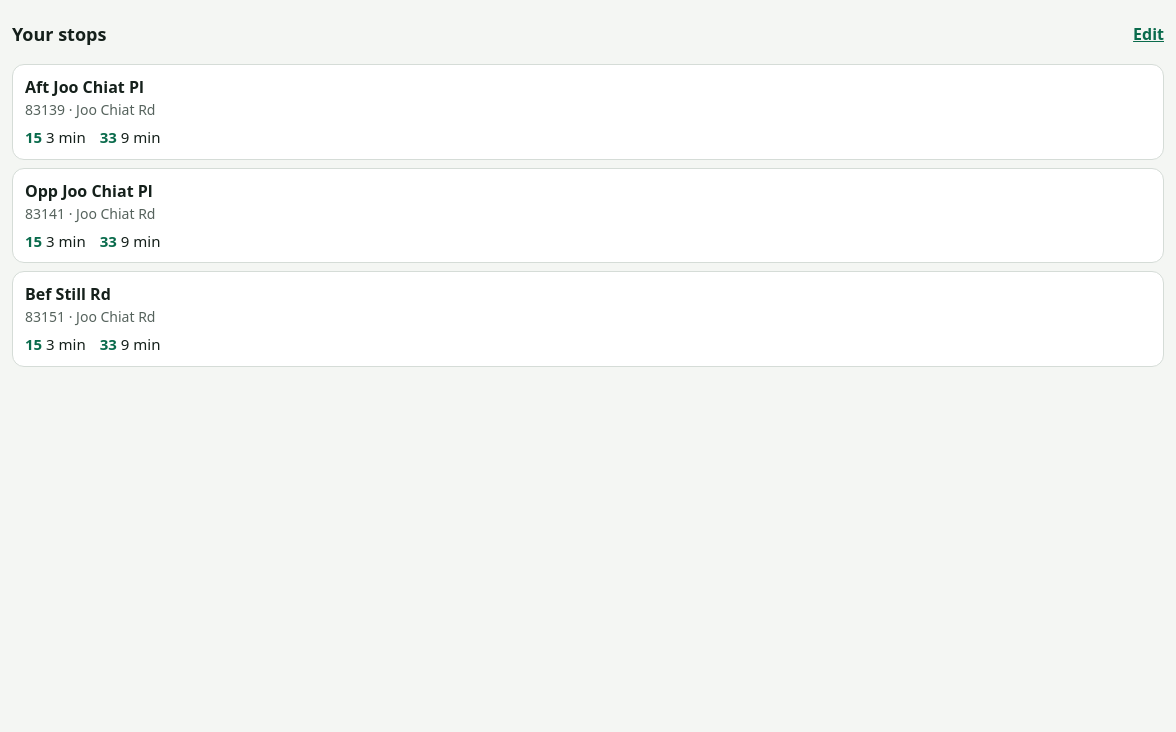
Scenario: FavouritesPanel › editing › moves a stop and sends the whole new order
The image size is (1176, 732).
Later steps or results of the test are not shown.
Step 1. Click the button "Edit" → point(1149, 34), box top-left (1133, 12), bottom-right (1164, 56)
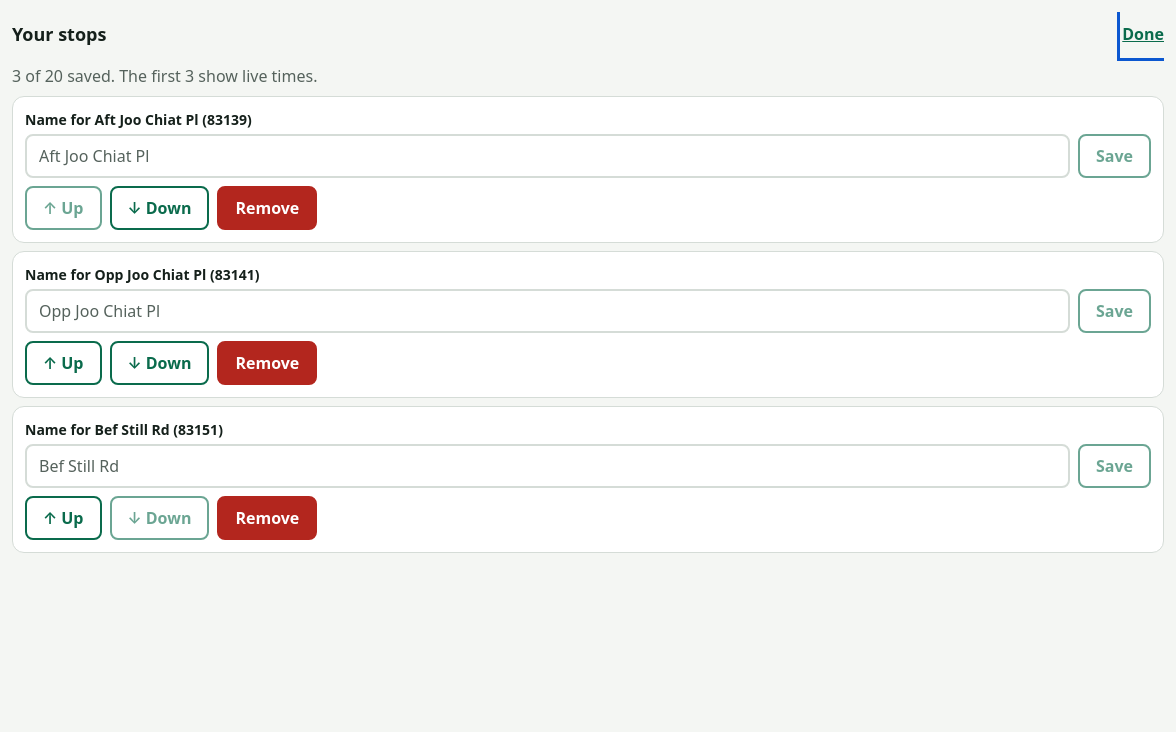
Now the button with aria-label "Move Aft Joo Chiat Pl up" is disabled, box top-left (25, 186), bottom-right (102, 230)
Now the button with aria-label "Move Bef Still Rd down" is disabled, box top-left (110, 496), bottom-right (209, 540)
